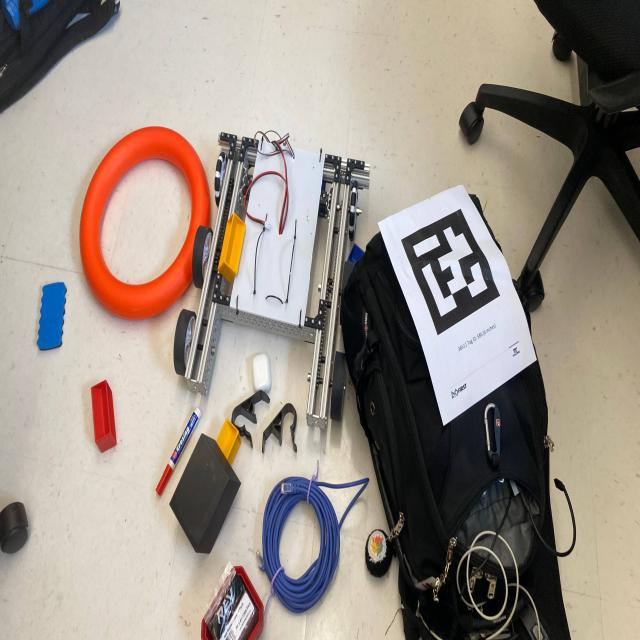blue-specimen: (347, 244, 364, 263)
red-specimen: (91, 380, 116, 452)
yellow-specimen: (218, 212, 246, 281), (216, 419, 241, 465)
